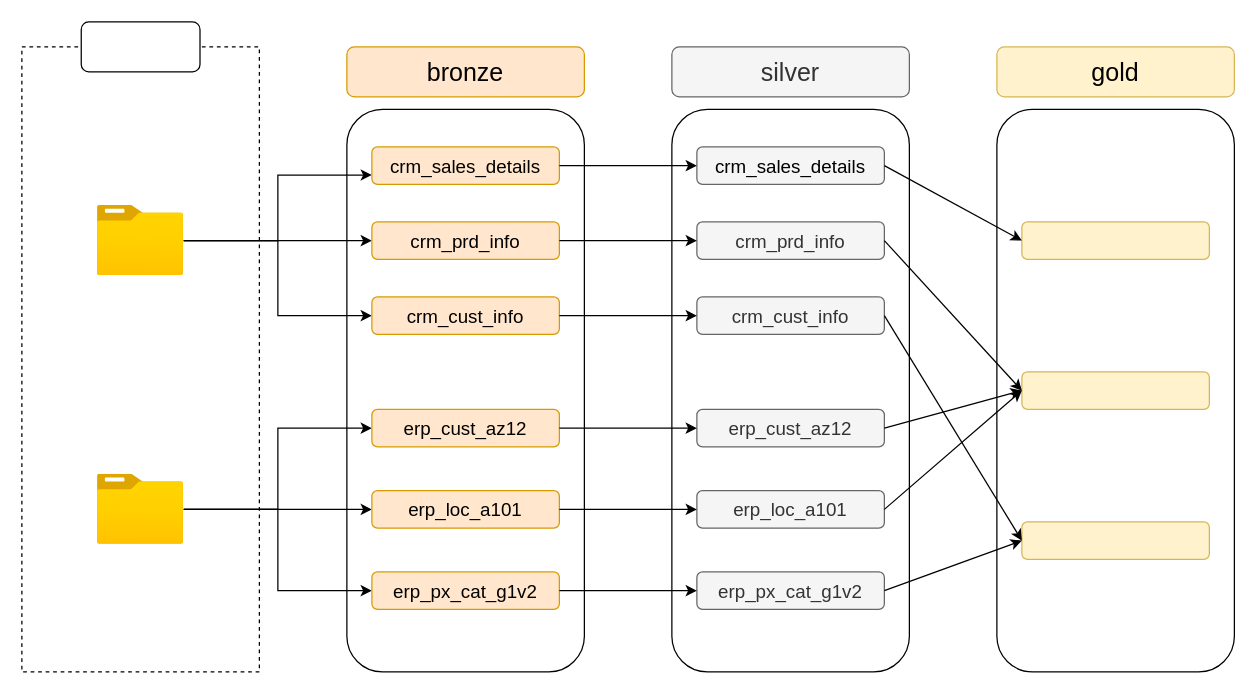
The diagram is 1256 pixels wide and 694 high, and some of its shapes have lost their labels. The centre of each missing label's shape, as x and y in pixels:
"CRM" belongs at [140,240].
"dim_customer" belongs at [1115,390].
"dim_product" belongs at [1115,540].
"ERP" belongs at [140,509].
"fact_sales" belongs at [1115,240].
"sources" belongs at [140,46].
